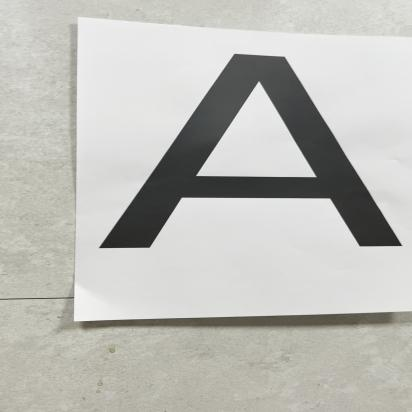seat: (97, 36, 412, 269)
